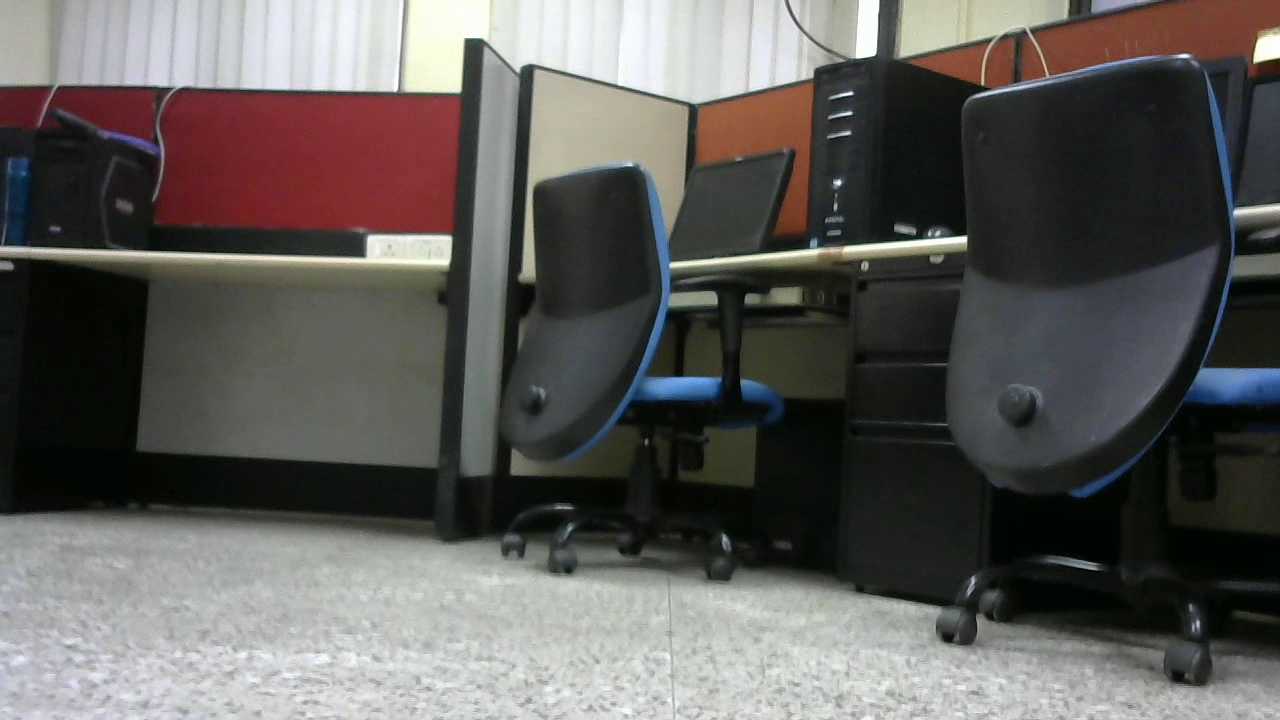chair: (916, 41, 1280, 688), (499, 155, 788, 586)
